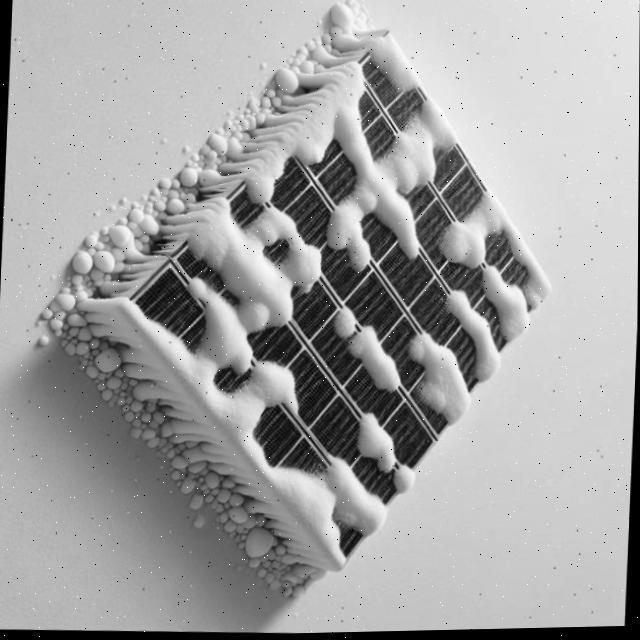Anomaly Solar Panel: (96, 35, 635, 575)
Snow: (112, 177, 483, 578), (238, 48, 503, 313), (428, 192, 570, 338), (398, 324, 479, 436), (441, 284, 507, 389), (340, 327, 413, 405), (476, 259, 537, 350), (363, 34, 423, 104), (354, 415, 397, 476), (336, 309, 362, 344), (393, 467, 416, 497)
